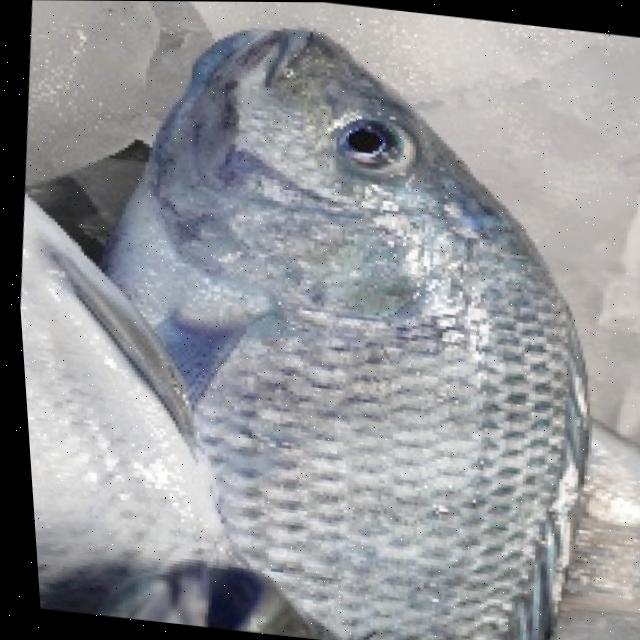Fresh: (85, 22, 596, 640)
